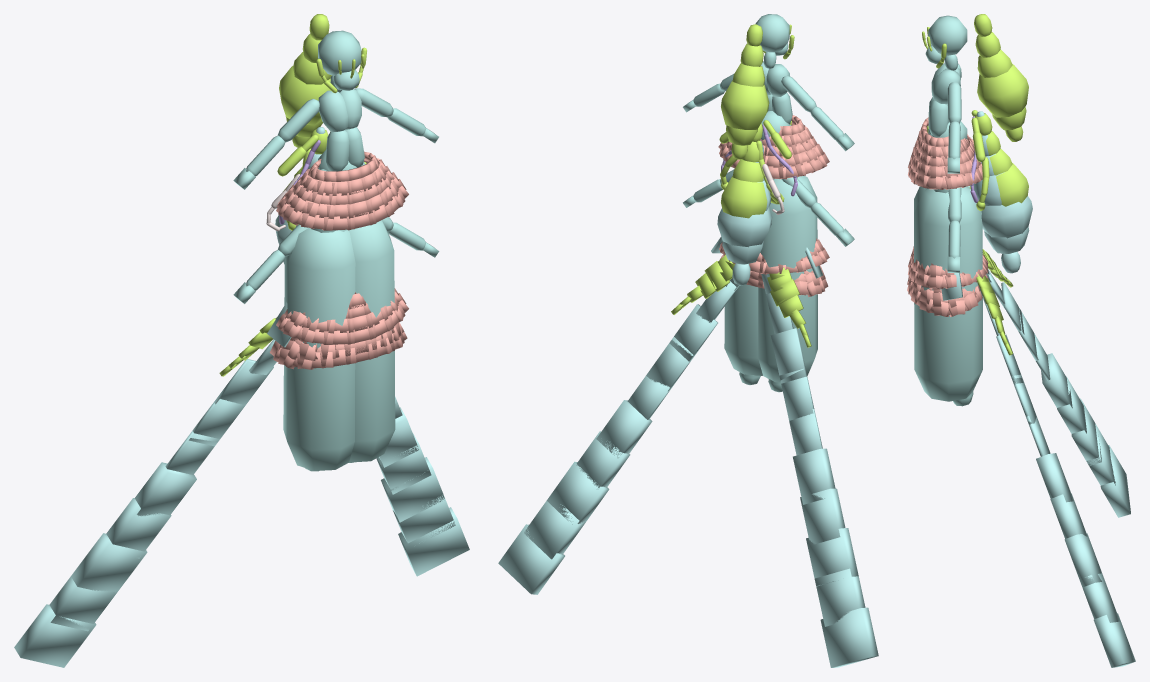
The model's file is Bronya-HoT_RigidBodyWorld.fbx.
3 views of the same model, side by side, from view 1: azimuth 30°, elevation 25°; view 2: azimuth 150°, elevation 25°; view 3: azimuth 270°, elevation 25° (orthographic). The views are drawn at different scales.
Parts seen in each view (by area): view 1: 00E_右ひざ, 00G_左ひざ, 06Y_Bone_Bronya_C12_lv2_Effect_BR_10, 06W_Bone_Bronya_C12_lv2_Effect_BR_08, 078_Bone_Bronya_C12_lv2_Effect_BL_10, 06X_Bone_Bronya_C12_lv2_Effect_BR_09, 06U_Bone_Bronya_C12_lv2_Effect_BR_06, 06V_Bone_Bronya_C12_lv2_Effect_BR_07, 076_Bone_Bronya_C12_lv2_Effect_BL_08, 00A_頭_1, 077_Bone_Bronya_C12_lv2_Effect_BL_09, 075_Bone_Bronya_C12_lv2_Effect_BL_07 (+9 smaller); view 2: 00E_右ひざ, 00G_左ひざ, 06Y_Bone_Bronya_C12_lv2_Effect_BR_10, 078_Bone_Bronya_C12_lv2_Effect_BL_10, 076_Bone_Bronya_C12_lv2_Effect_BL_08, 077_Bone_Bronya_C12_lv2_Effect_BL_09, 06X_Bone_Bronya_C12_lv2_Effect_BR_09, 00Y_Bone_Bronya_C12_Hair_B_04, 06V_Bone_Bronya_C12_lv2_Effect_BR_07, 074_Bone_Bronya_C12_lv2_Effect_BL_06, 06W_Bone_Bronya_C12_lv2_Effect_BR_08, 06U_Bone_Bronya_C12_lv2_Effect_BR_06 (+14 smaller); view 3: 00G_左ひざ, 00Y_Bone_Bronya_C12_Hair_B_04, 01J_Bone_Bronya_C12_Hair_B_05, 078_Bone_Bronya_C12_lv2_Effect_BL_10, 076_Bone_Bronya_C12_lv2_Effect_BL_08, 00A_頭_1, 06Y_Bone_Bronya_C12_lv2_Effect_BR_10, 074_Bone_Bronya_C12_lv2_Effect_BL_06, 077_Bone_Bronya_C12_lv2_Effect_BL_09, 00Y_Bone_Bronya_C12_Hair_B_04.001, 06U_Bone_Bronya_C12_lv2_Effect_BR_06, 075_Bone_Bronya_C12_lv2_Effect_BL_07 (+22 smaller).
Part boxes in pixels (x1,y1,x2,y2): 00E_右ひざ: (283, 225, 355, 470); 00G_左ひざ: (348, 220, 395, 462); 06Y_Bone_Bronya_C12_lv2_Effect_BR_10: (14, 604, 96, 667); 06W_Bone_Bronya_C12_lv2_Effect_BR_08: (71, 533, 147, 592); 078_Bone_Bronya_C12_lv2_Effect_BL_10: (398, 507, 469, 576); 06X_Bone_Bronya_C12_lv2_Effect_BR_09: (49, 576, 117, 631); 06U_Bone_Bronya_C12_lv2_Effect_BR_06: (135, 462, 196, 516); 06V_Bone_Bronya_C12_lv2_Effect_BR_07: (106, 498, 171, 558); 076_Bone_Bronya_C12_lv2_Effect_BL_08: (381, 457, 444, 522); 00A_頭_1: (318, 30, 361, 75); 077_Bone_Bronya_C12_lv2_Effect_BL_09: (393, 495, 455, 543); 075_Bone_Bronya_C12_lv2_Effect_BL_07: (376, 433, 431, 494); 00E_右ひざ: (758, 176, 817, 382); 00G_左ひざ: (724, 284, 762, 375); 06Y_Bone_Bronya_C12_lv2_Effect_BR_10: (820, 607, 878, 667); 078_Bone_Bronya_C12_lv2_Effect_BL_10: (498, 524, 564, 594); 076_Bone_Bronya_C12_lv2_Effect_BL_08: (546, 461, 609, 524); 077_Bone_Bronya_C12_lv2_Effect_BL_09: (524, 501, 585, 559); 06X_Bone_Bronya_C12_lv2_Effect_BR_09: (814, 568, 865, 626); 00Y_Bone_Bronya_C12_Hair_B_04: (721, 80, 769, 129); 06V_Bone_Bronya_C12_lv2_Effect_BR_07: (800, 488, 845, 544); 074_Bone_Bronya_C12_lv2_Effect_BL_06: (596, 400, 652, 457); 06W_Bone_Bronya_C12_lv2_Effect_BR_08: (806, 528, 858, 586); 06U_Bone_Bronya_C12_lv2_Effect_BR_06: (793, 448, 835, 504); 00G_左ひざ: (914, 186, 982, 401); 00Y_Bone_Bronya_C12_Hair_B_04: (977, 63, 1028, 117); 01J_Bone_Bronya_C12_Hair_B_05: (981, 196, 1032, 238); 078_Bone_Bronya_C12_lv2_Effect_BL_10: (1093, 613, 1135, 667); 076_Bone_Bronya_C12_lv2_Effect_BL_08: (1064, 533, 1101, 587); 00A_頭_1: (928, 15, 967, 55); 06Y_Bone_Bronya_C12_lv2_Effect_BR_10: (1100, 445, 1130, 517); 074_Bone_Bronya_C12_lv2_Effect_BL_06: (1036, 453, 1073, 502); 077_Bone_Bronya_C12_lv2_Effect_BL_09: (1082, 573, 1119, 622); 00Y_Bone_Bronya_C12_Hair_B_04.001: (996, 163, 1028, 206); 06U_Bone_Bronya_C12_lv2_Effect_BR_06: (1041, 353, 1072, 408); 075_Bone_Bronya_C12_lv2_Effect_BL_07: (1050, 493, 1087, 538).
Size of the model in its own units: 209 by 107 by 297.
